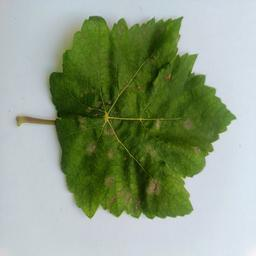Powdery-Mildew: (138, 134, 169, 166), (104, 175, 133, 206), (82, 140, 98, 156), (152, 113, 168, 128), (189, 145, 204, 161), (161, 68, 176, 83), (184, 118, 199, 133), (104, 123, 119, 138), (103, 148, 118, 163), (150, 181, 165, 196), (65, 129, 80, 144)
